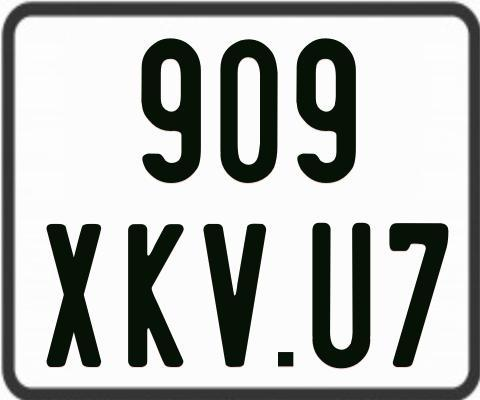0: (219, 36, 279, 184)
7: (389, 221, 449, 368)
9: (295, 38, 359, 184), (141, 37, 203, 183)
K: (127, 223, 184, 370)
U: (311, 223, 369, 371)
V: (202, 223, 265, 369)
X: (45, 224, 99, 368)
